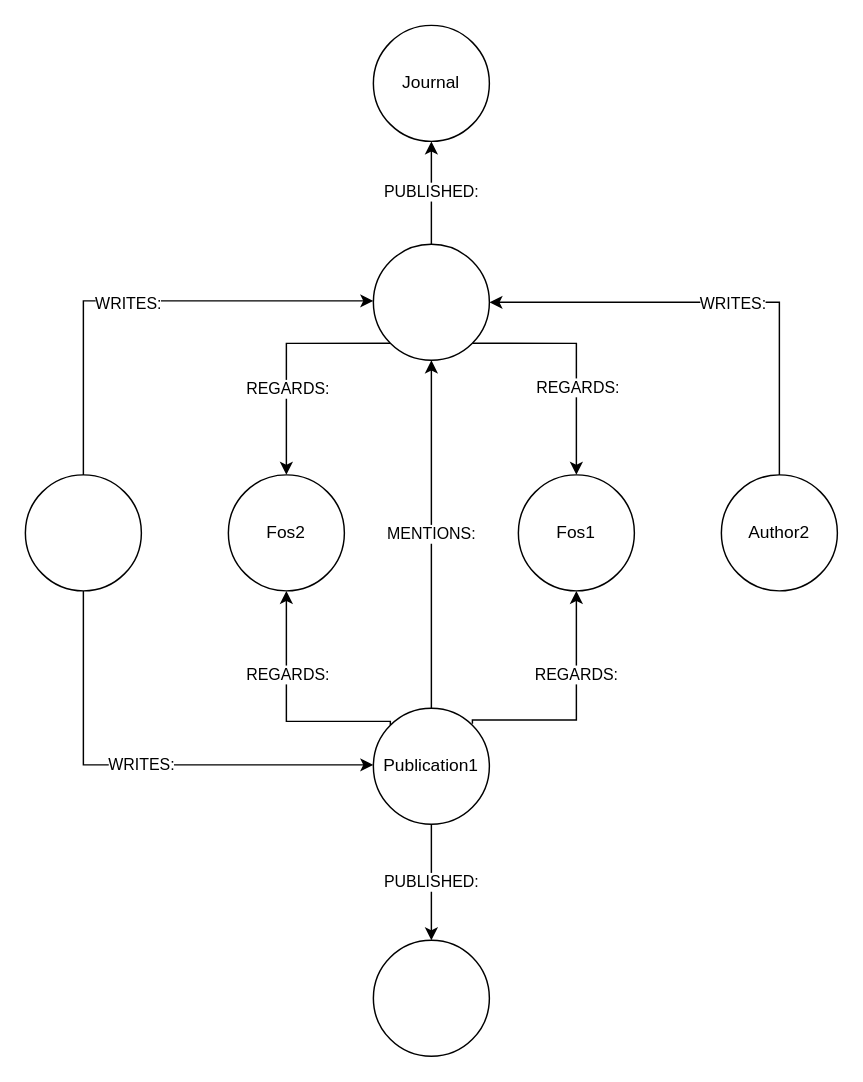
The diagram is 863 pixels wide and 1082 high, and some of its shapes have lost their labels. The centre of each missing label's shape, as x and y in pixels:
"Author1" goes at (82,532).
"Conference" goes at (430,997).
"Publication2" goes at (430,301).
